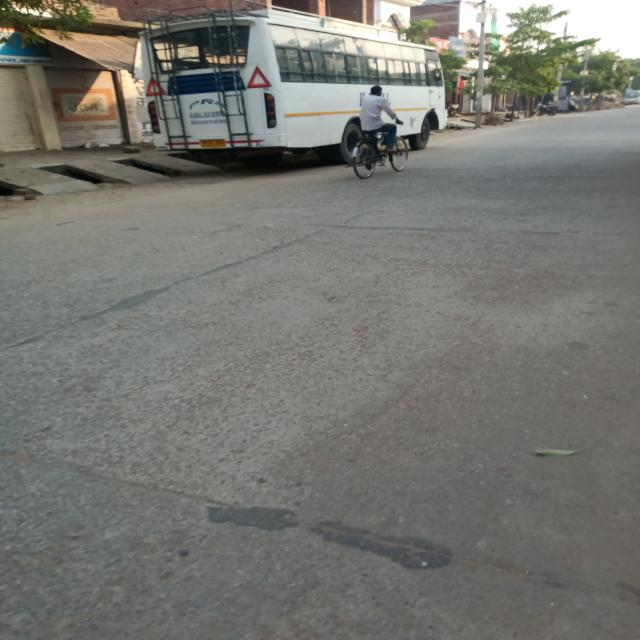Bike: (528, 102, 563, 119)
Bus: (126, 15, 454, 151)
Car: (616, 86, 640, 107)
